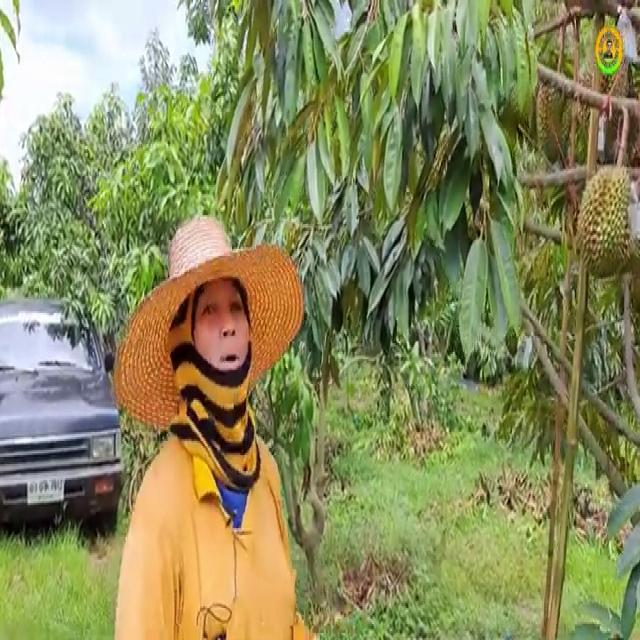durian: (570, 160, 640, 284)
